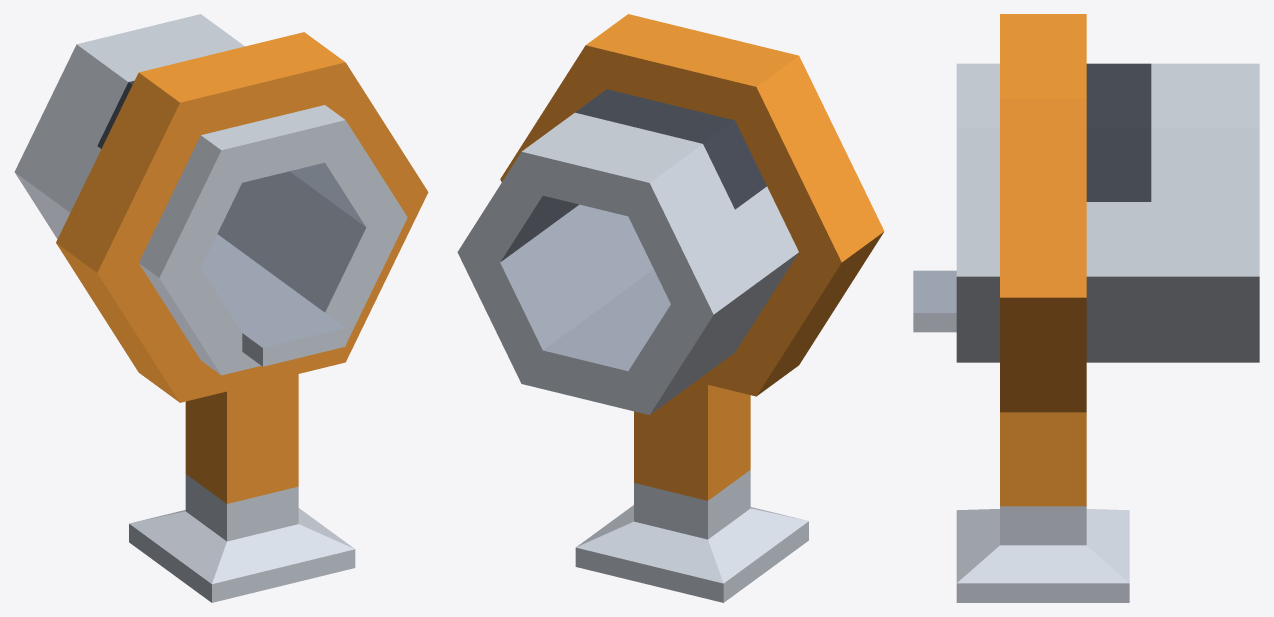
File: pipe_ringHighEnd.glb
3 renders of one model, left to right at view 1: azimuth 30°, elevation 25°; view 2: azimuth 150°, elevation 25°; view 3: azimuth 270°, elevation 25°, orthographic. The views are drawn at different scales.
Parts seen in each view (by area): view 1: pipe_ringHighEnd; view 2: pipe_ringHighEnd; view 3: pipe_ringHighEnd.
Part boxes in pixels (bbox=[...]): pipe_ringHighEnd: bbox=[14, 14, 428, 602]; pipe_ringHighEnd: bbox=[457, 14, 884, 602]; pipe_ringHighEnd: bbox=[913, 14, 1259, 602].
Size of the model in its own units: 0.9238 by 1.3 by 0.8.
